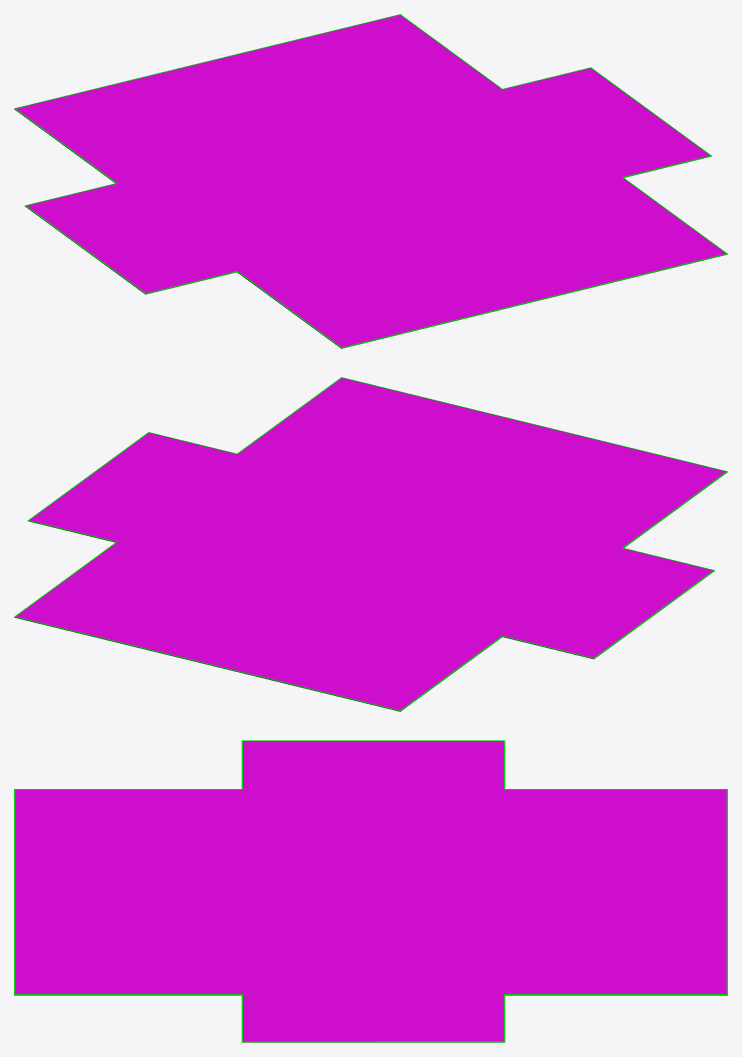
Rendered from Sidewalk_cluster.fbx.
The picture shows the model from 3 angles, top to bottom: view 1: azimuth 30°, elevation 25°; view 2: azimuth 150°, elevation 25°; view 3: azimuth 270°, elevation 25°; orthographic projection. The views are drawn at different scales.
Parts seen in each view (by area): view 1: Sidewalk_cluster; view 2: Sidewalk_cluster; view 3: Sidewalk_cluster.
Boxes of the visible parts, <box> form: Sidewalk_cluster: <box>14,14,727,348</box>; Sidewalk_cluster: <box>14,377,727,711</box>; Sidewalk_cluster: <box>14,740,727,1042</box>.
Size of the model in its own units: 10247 by 13.8 by 10262.
